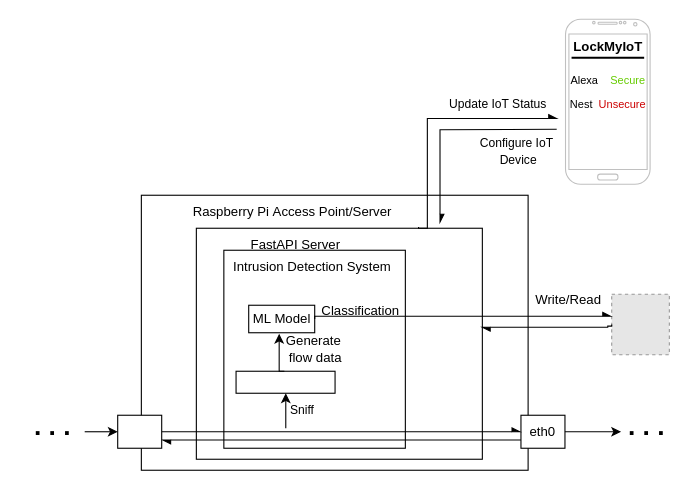
This 697x490 diagram has some shape labels left out. Grey dashed boxes stand in for pictures. The centre of each missing label's shape, as x and y in pixels:
"CICFlowMeter" belongs at (x=285, y=381).
"wlan0" belongs at (x=139, y=431).
